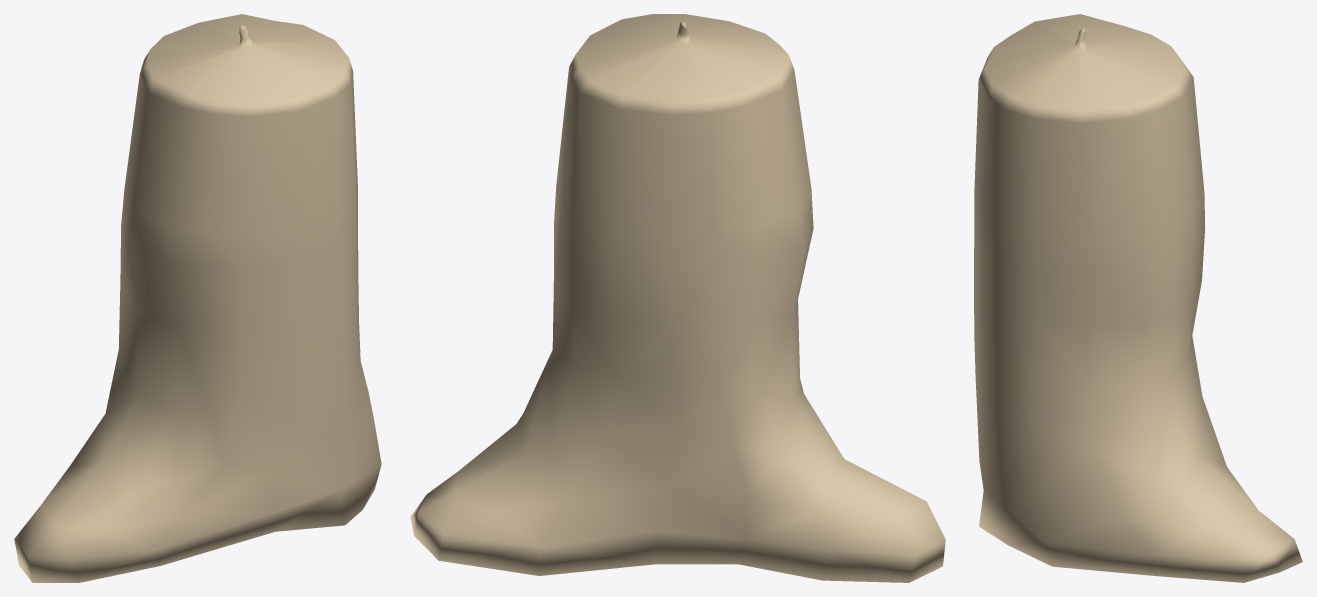
The model's file is candle.fbx.
The picture shows the model from 3 angles, left to right: view 1: azimuth 30°, elevation 25°; view 2: azimuth 150°, elevation 25°; view 3: azimuth 270°, elevation 25°; orthographic projection. The views are drawn at different scales.
Visible parts, largest first — view 1: Candle_01_LOD0; view 2: Candle_01_LOD0; view 3: Candle_01_LOD0.
Part boxes in pixels (bbox=[...]): Candle_01_LOD0: bbox=[14, 14, 381, 582]; Candle_01_LOD0: bbox=[410, 14, 945, 582]; Candle_01_LOD0: bbox=[974, 14, 1302, 582].
Bounding box in the file's own units: 13.94 × 15.59 × 9.5.
